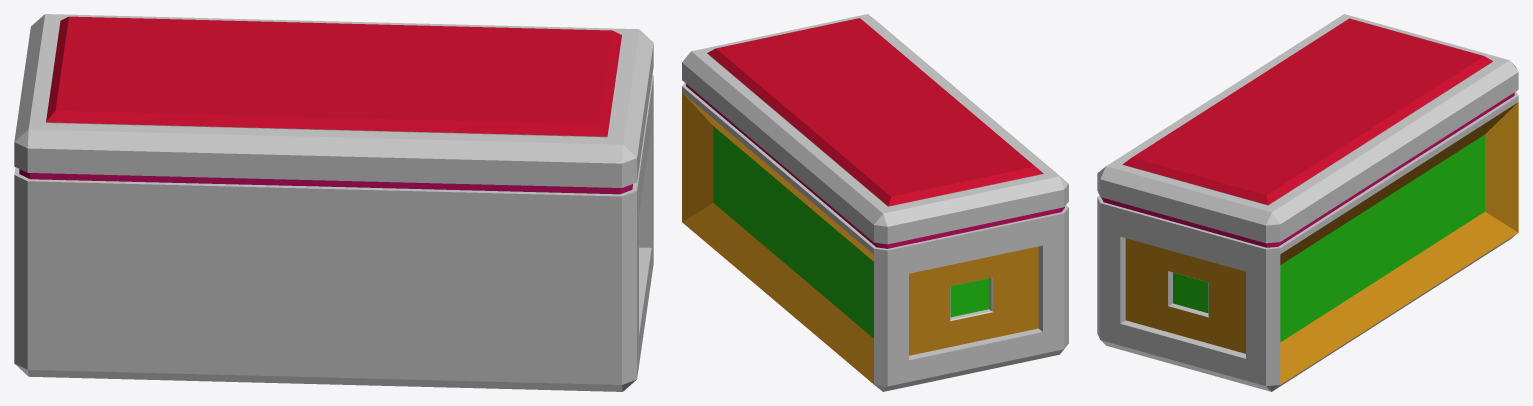
The picture shows the model from 3 angles, left to right: view 1: azimuth 30°, elevation 25°; view 2: azimuth 150°, elevation 25°; view 3: azimuth 270°, elevation 25°; orthographic projection. The views are drawn at different scales.
Visible parts, largest first — view 1: Cube.010_Cube.009 (×3); view 2: Cube.010_Cube.009 (×5); view 3: Cube.010_Cube.009 (×5).
Part boxes in pixels (x1,y1,x2,y2): Cube.010_Cube.009 (×3): (14,14,653,391); Cube.010_Cube.009 (×5): (682,14,1068,391); Cube.010_Cube.009 (×5): (1097,14,1518,391).
Bounding box in the file's own units: 3.23 × 1.36 × 2.79.
